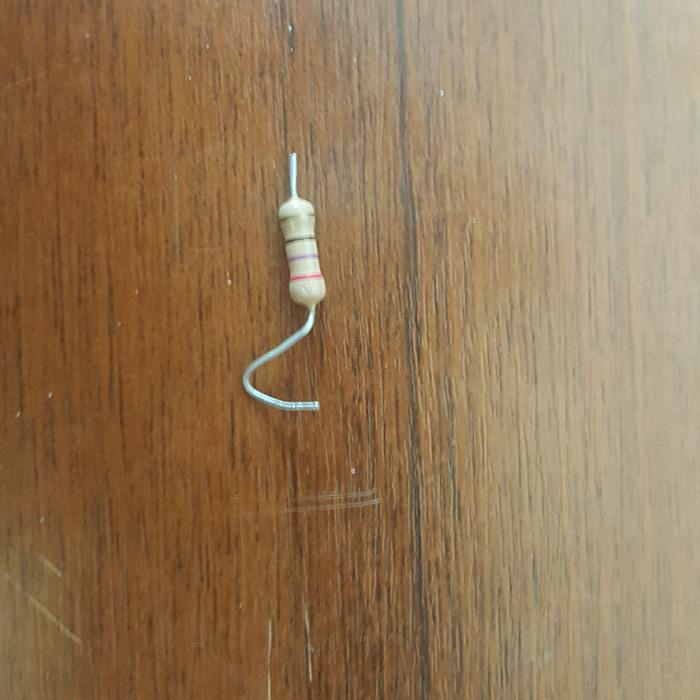resistor: (277, 174, 326, 308)
